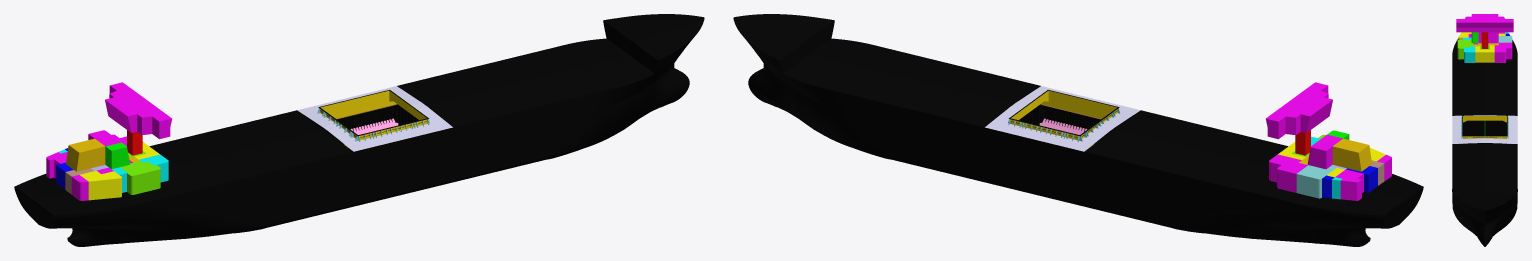
3 renders of one model, left to right at view 1: azimuth 30°, elevation 25°; view 2: azimuth 150°, elevation 25°; view 3: azimuth 270°, elevation 25°, orthographic. The views are drawn at different scales.
Parts seen in each view (by area): view 1: DHC 00; view 2: DHC 00; view 3: DHC 00.
Boxes of the visible parts, x1,y1,x2,y2 form: DHC 00: [14, 14, 704, 246]; DHC 00: [733, 14, 1423, 246]; DHC 00: [1452, 14, 1517, 246].
Size of the model in its own units: 194 by 28.42 by 36.24.
